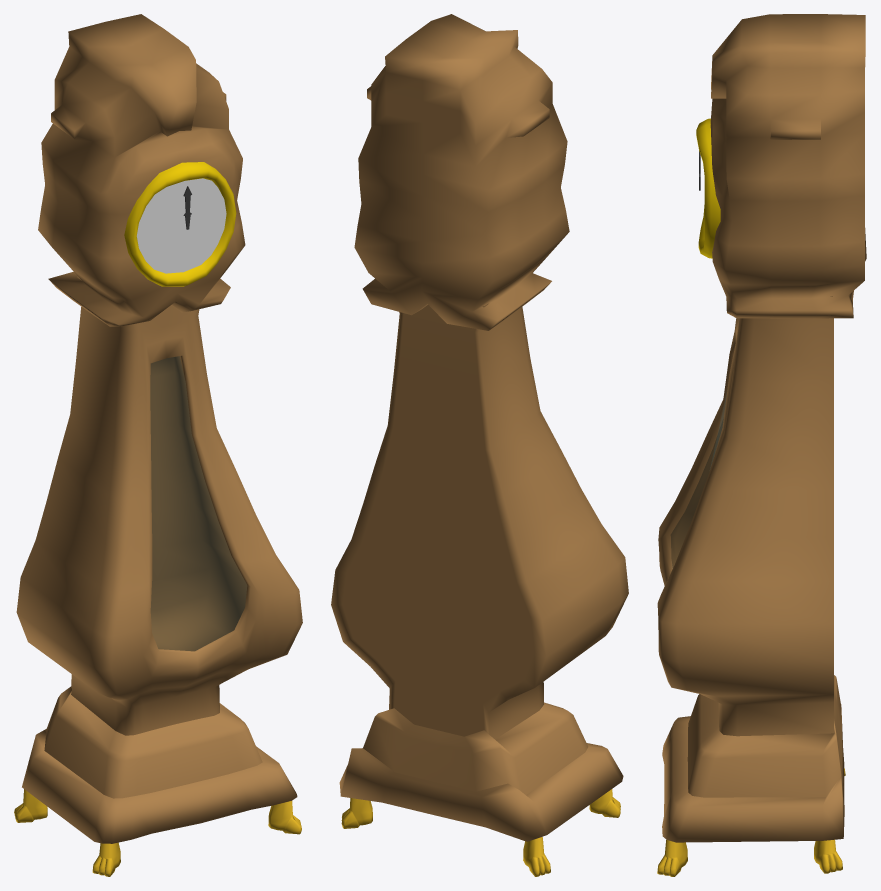
Rendered from props_grande_horloge.fbx.
3 renders of one model, left to right at view 1: azimuth 30°, elevation 25°; view 2: azimuth 150°, elevation 25°; view 3: azimuth 270°, elevation 25°, orthographic. The views are drawn at different scales.
Parts seen in each view (by area): view 1: Cube.015; view 2: Cube.015; view 3: Cube.015.
Boxes of the visible parts, x1=… form: Cube.015: x1=14, y1=14, x2=302, y2=876; Cube.015: x1=331, y1=14, x2=628, y2=876; Cube.015: x1=657, y1=14, x2=866, y2=876.
Size of the model in its own units: 0.881 by 0.7352 by 3.07.
